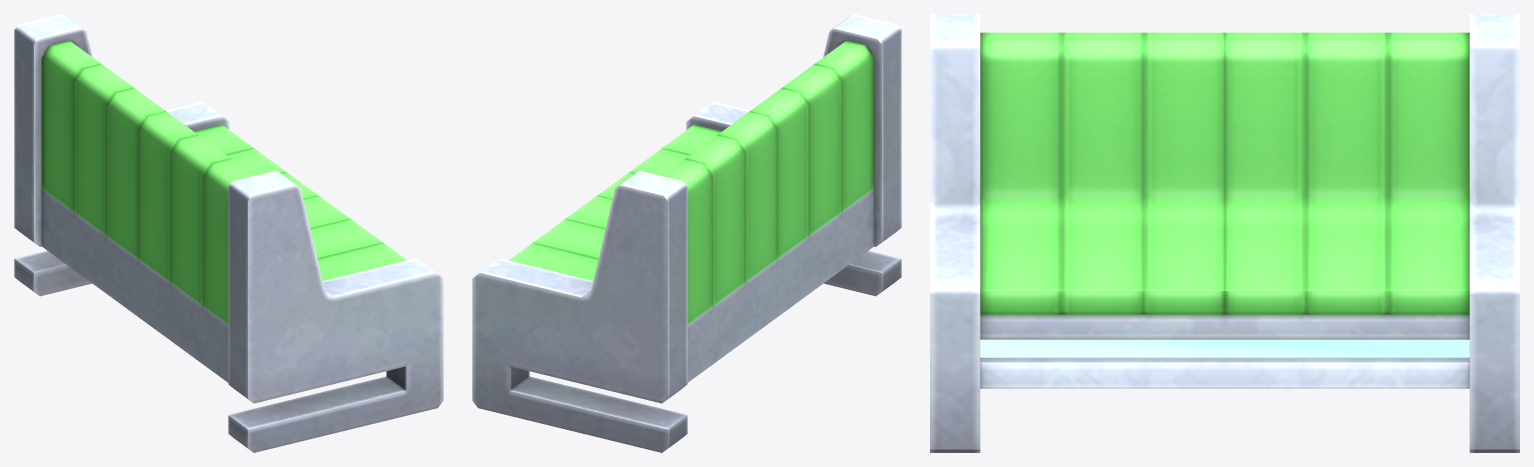
File: obj_bench01.gltf
3 views of the same model, side by side, from view 1: azimuth 30°, elevation 25°; view 2: azimuth 150°, elevation 25°; view 3: azimuth 270°, elevation 25° (orthographic). The views are drawn at different scales.
Visible parts, largest first — view 1: obj_bench01; view 2: obj_bench01; view 3: obj_bench01.
Boxes of the visible parts, left/top/right/bottom form: obj_bench01: left=14, top=14, right=443, bottom=452; obj_bench01: left=472, top=14, right=901, bottom=452; obj_bench01: left=930, top=14, right=1519, bottom=452.
Size of what is drawn, in the model's own units: 0.8444 by 1.06 by 1.75.
Materials: 2 (1 with a texture image).
